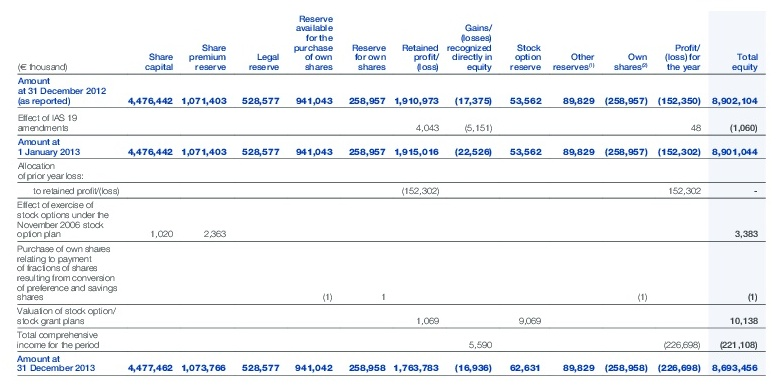table: (0, 0, 780, 390)
